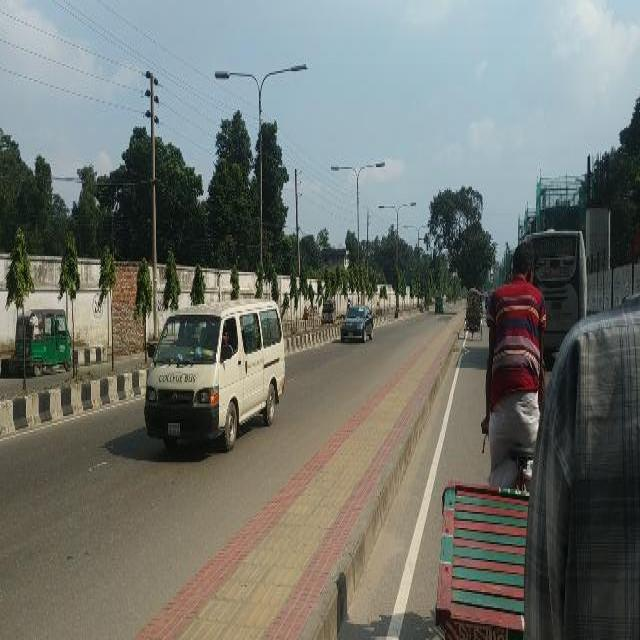vehicle: (144, 296, 287, 442), (434, 478, 526, 633), (529, 228, 589, 350), (14, 307, 74, 374), (341, 302, 374, 340), (464, 287, 484, 341), (322, 297, 337, 324), (435, 296, 443, 314)
